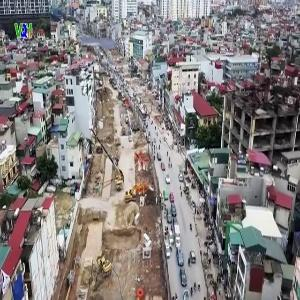drone: (60, 2, 145, 87)
